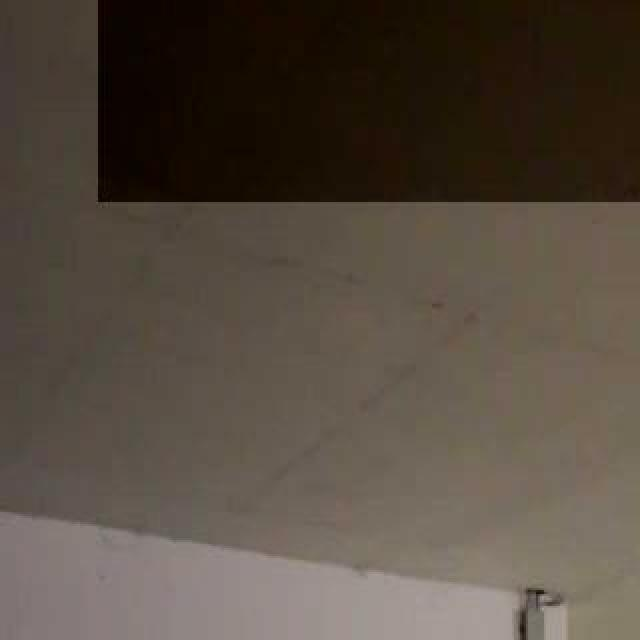fluorescent tube: (118, 0, 640, 170)
